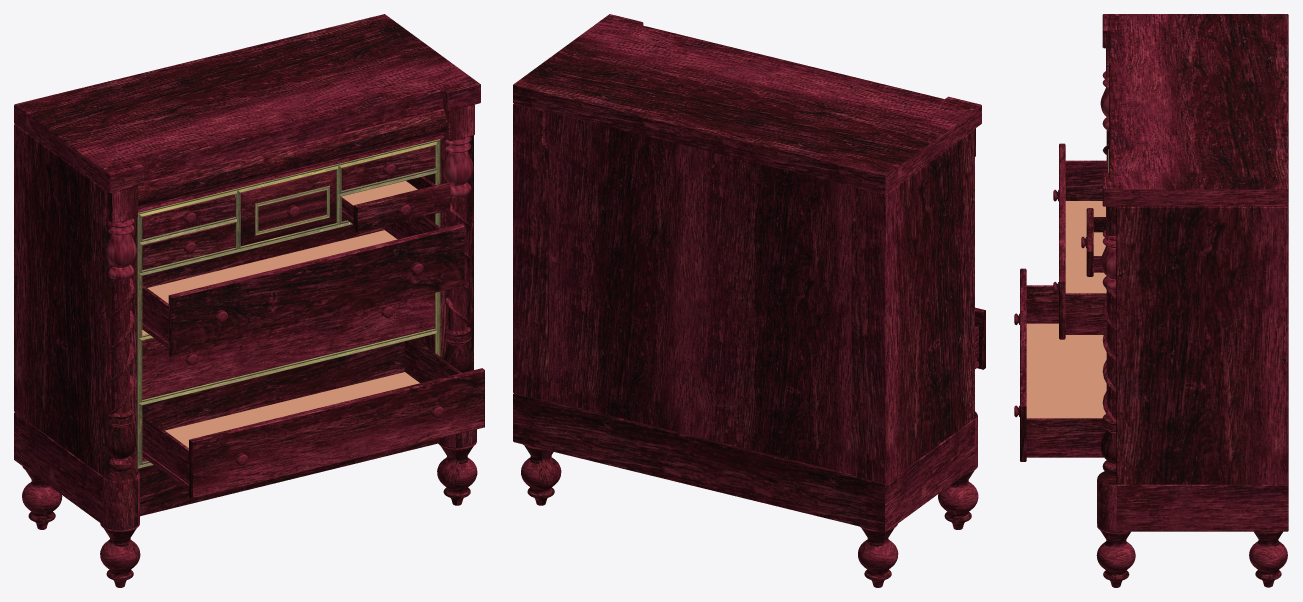
Rendered from Draws.gltf.
3 renders of one model, left to right at view 1: azimuth 30°, elevation 25°; view 2: azimuth 150°, elevation 25°; view 3: azimuth 270°, elevation 25°, orthographic. The views are drawn at different scales.
Visible parts, largest first — view 1: Body, Draw_Bottom, Draw_Top, Draw_Mid, Draw_Centre, Draw_Right_Bottom, Draw_Left_Bottom, Draw_Right_Top, Draw_Left_Top; view 2: Body, Draw_Bottom; view 3: Body, Draw_Bottom, Draw_Top, Draw_Right_Bottom.
Part boxes in pixels (x1,y1,x2,y2): Body: (14,14,480,587); Draw_Bottom: (142,335,484,498); Draw_Top: (142,216,464,356); Draw_Mid: (142,293,434,399); Draw_Centre: (235,169,336,245); Draw_Right_Bottom: (341,176,450,232); Draw_Left_Bottom: (142,222,235,270); Draw_Right_Top: (341,145,434,190); Draw_Left_Top: (142,194,235,239); Body: (513,14,981,587); Draw_Bottom: (975,307,985,369); Body: (1096,14,1288,587); Draw_Bottom: (1014,268,1106,461); Draw_Top: (1053,143,1107,339); Draw_Right_Bottom: (1081,208,1105,276).
Bounding box in the file's own units: 1.2 × 1.3 × 0.7954.
Materials: 3 (2 with a texture image).
